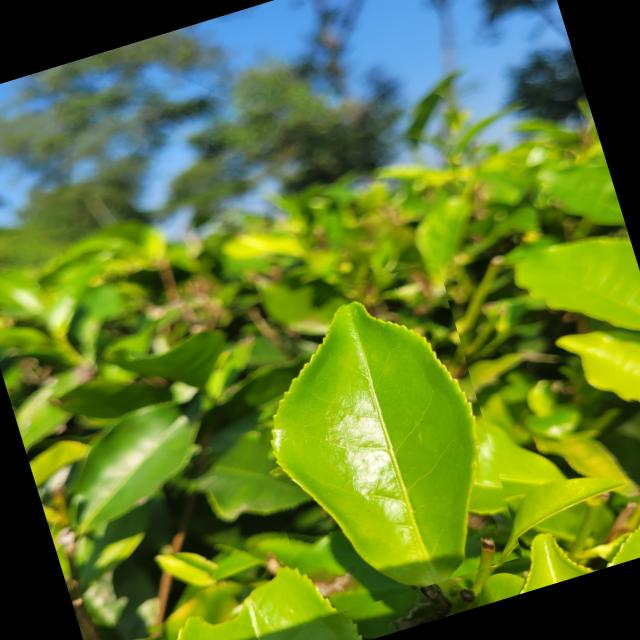Catagory A(1-2 days): (221, 253, 527, 620)
